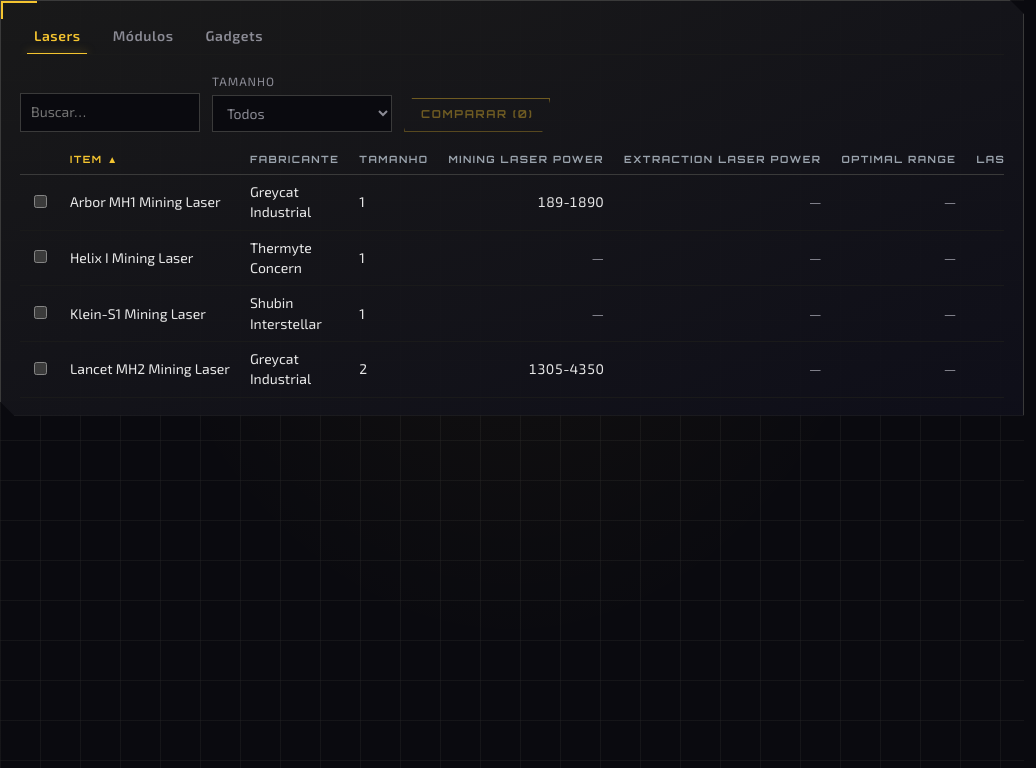
Test case: EquipmentView › filtro de tamanho S1 esconde o MH2
Select "S1" in the dropdown labelled "Tamanho" at (302, 113), box [212, 95, 392, 132]
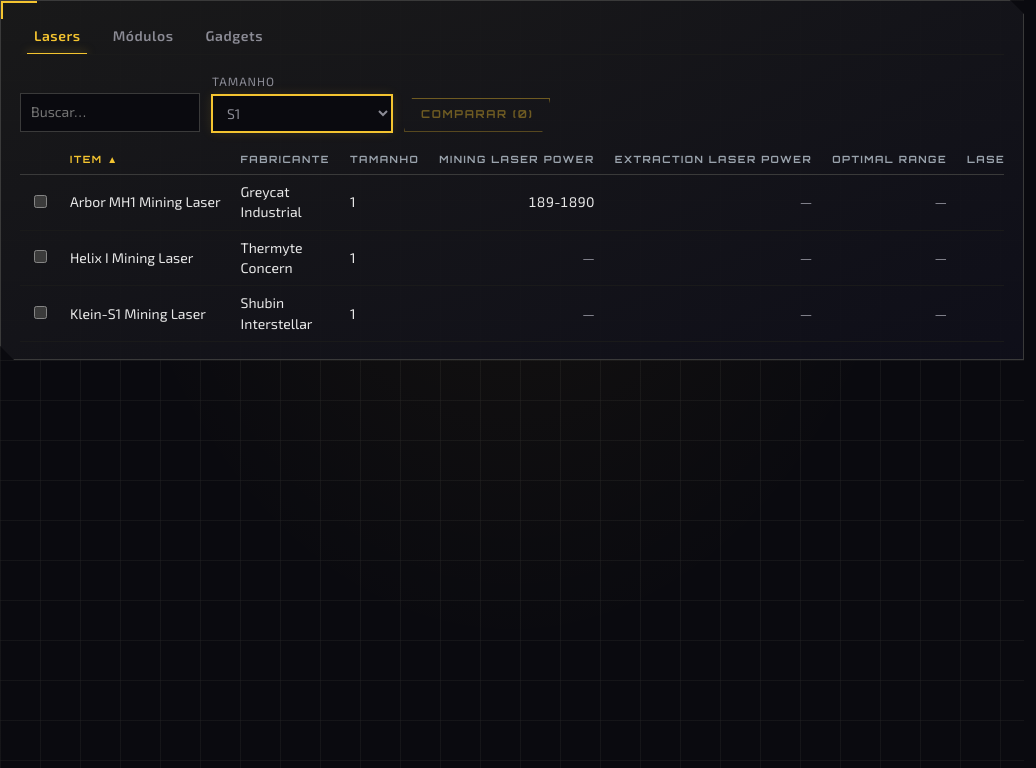
Check: the text "Lancet MH2" is gone
